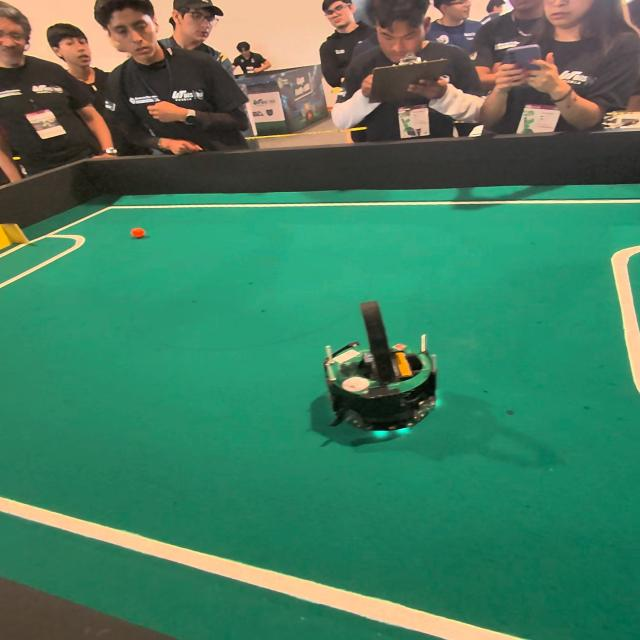Robot: (314, 294, 448, 451)
pelota: (124, 223, 152, 245)
